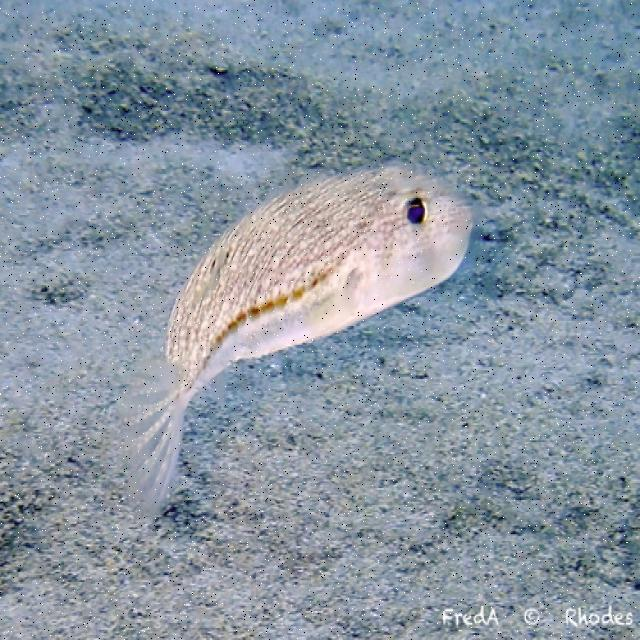Balik: (123, 168, 472, 511)
